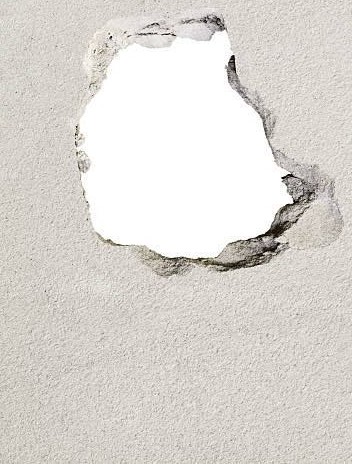Spalling: (71, 11, 320, 279)
